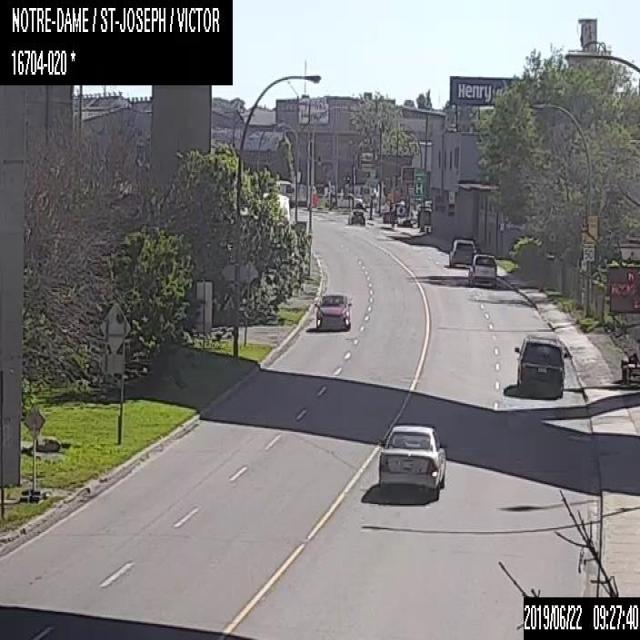bus: (277, 181, 294, 206)
construction: (606, 236, 639, 386)
vehicle: (377, 425, 447, 499), (514, 333, 567, 397), (314, 293, 351, 330), (467, 253, 496, 287), (448, 239, 476, 266), (347, 208, 365, 226)
